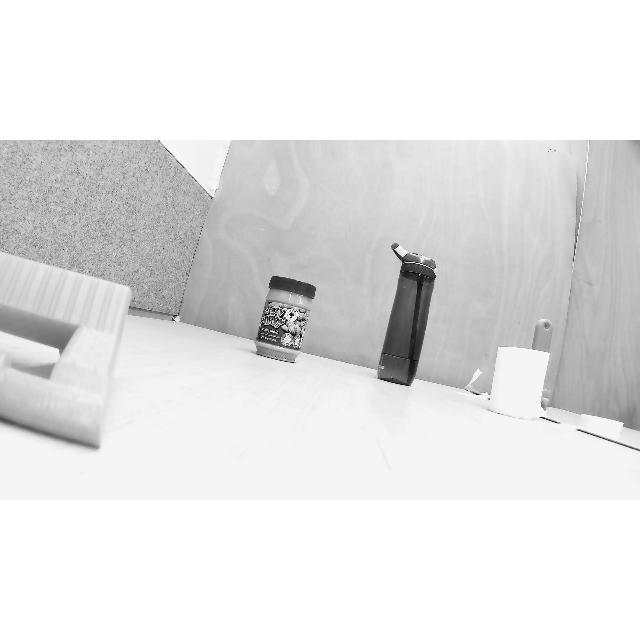targets: (0, 244, 136, 458), (376, 242, 446, 386), (255, 274, 322, 364), (488, 350, 548, 420), (522, 317, 560, 417)
